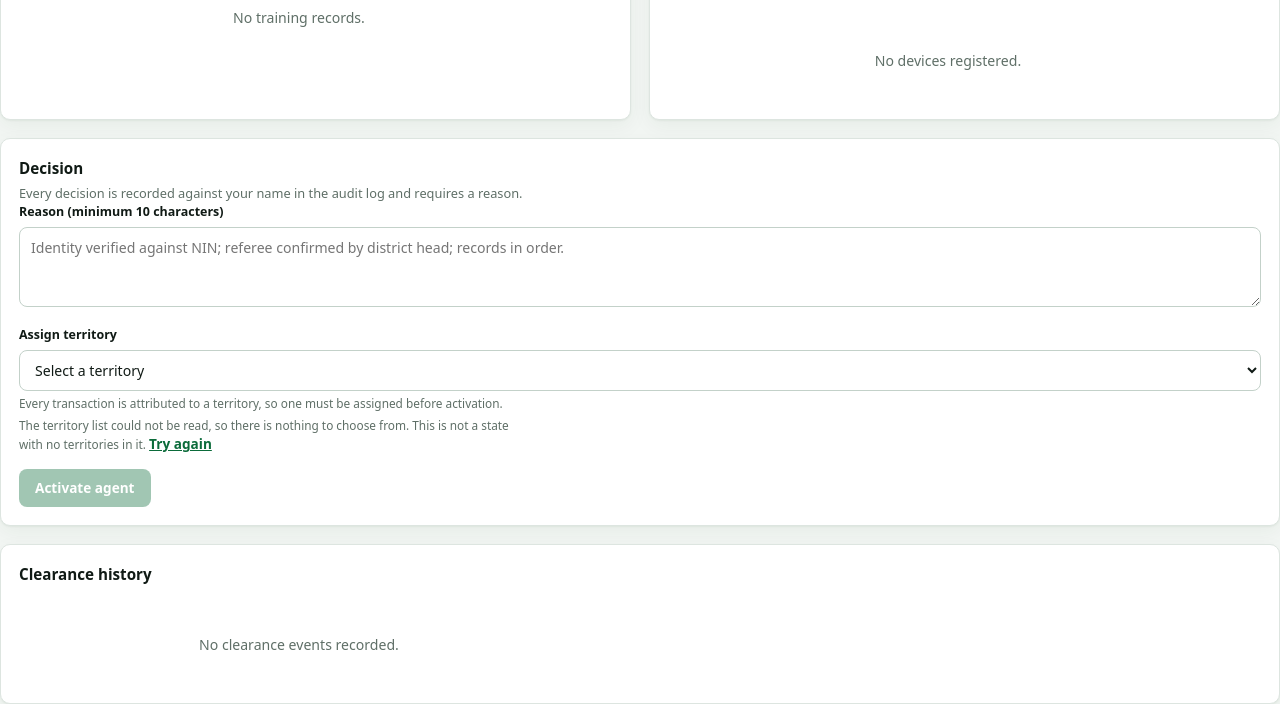
when the territory list cannot be read › offers a way to ask again
The image size is (1280, 704).
(page scrolled)
expect the text "territory list could not be read" is shown: met, box [19,416,509,452]
What coordinates should you click on to do the following:
click the button "Try again"
I would click on:
 (180, 444)
Its box is [149,434,212,455].
(page scrolled)
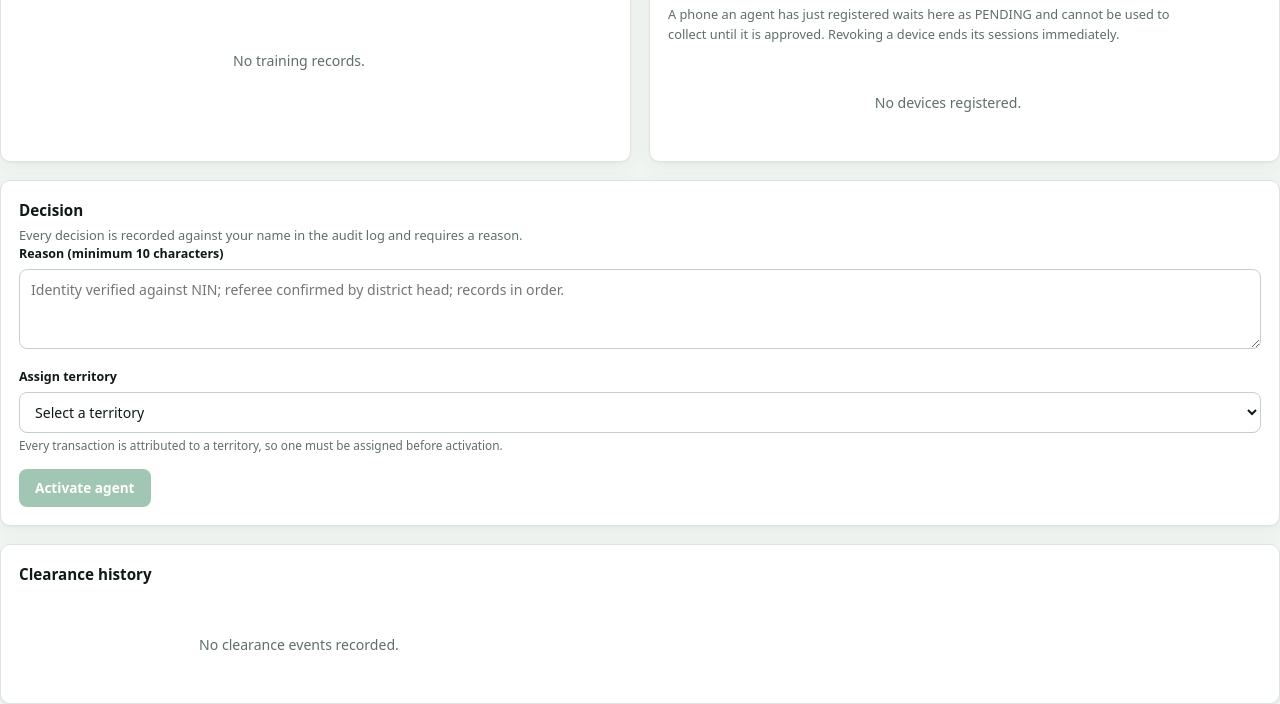
expect the text "territory list could not be read" is gone: met
